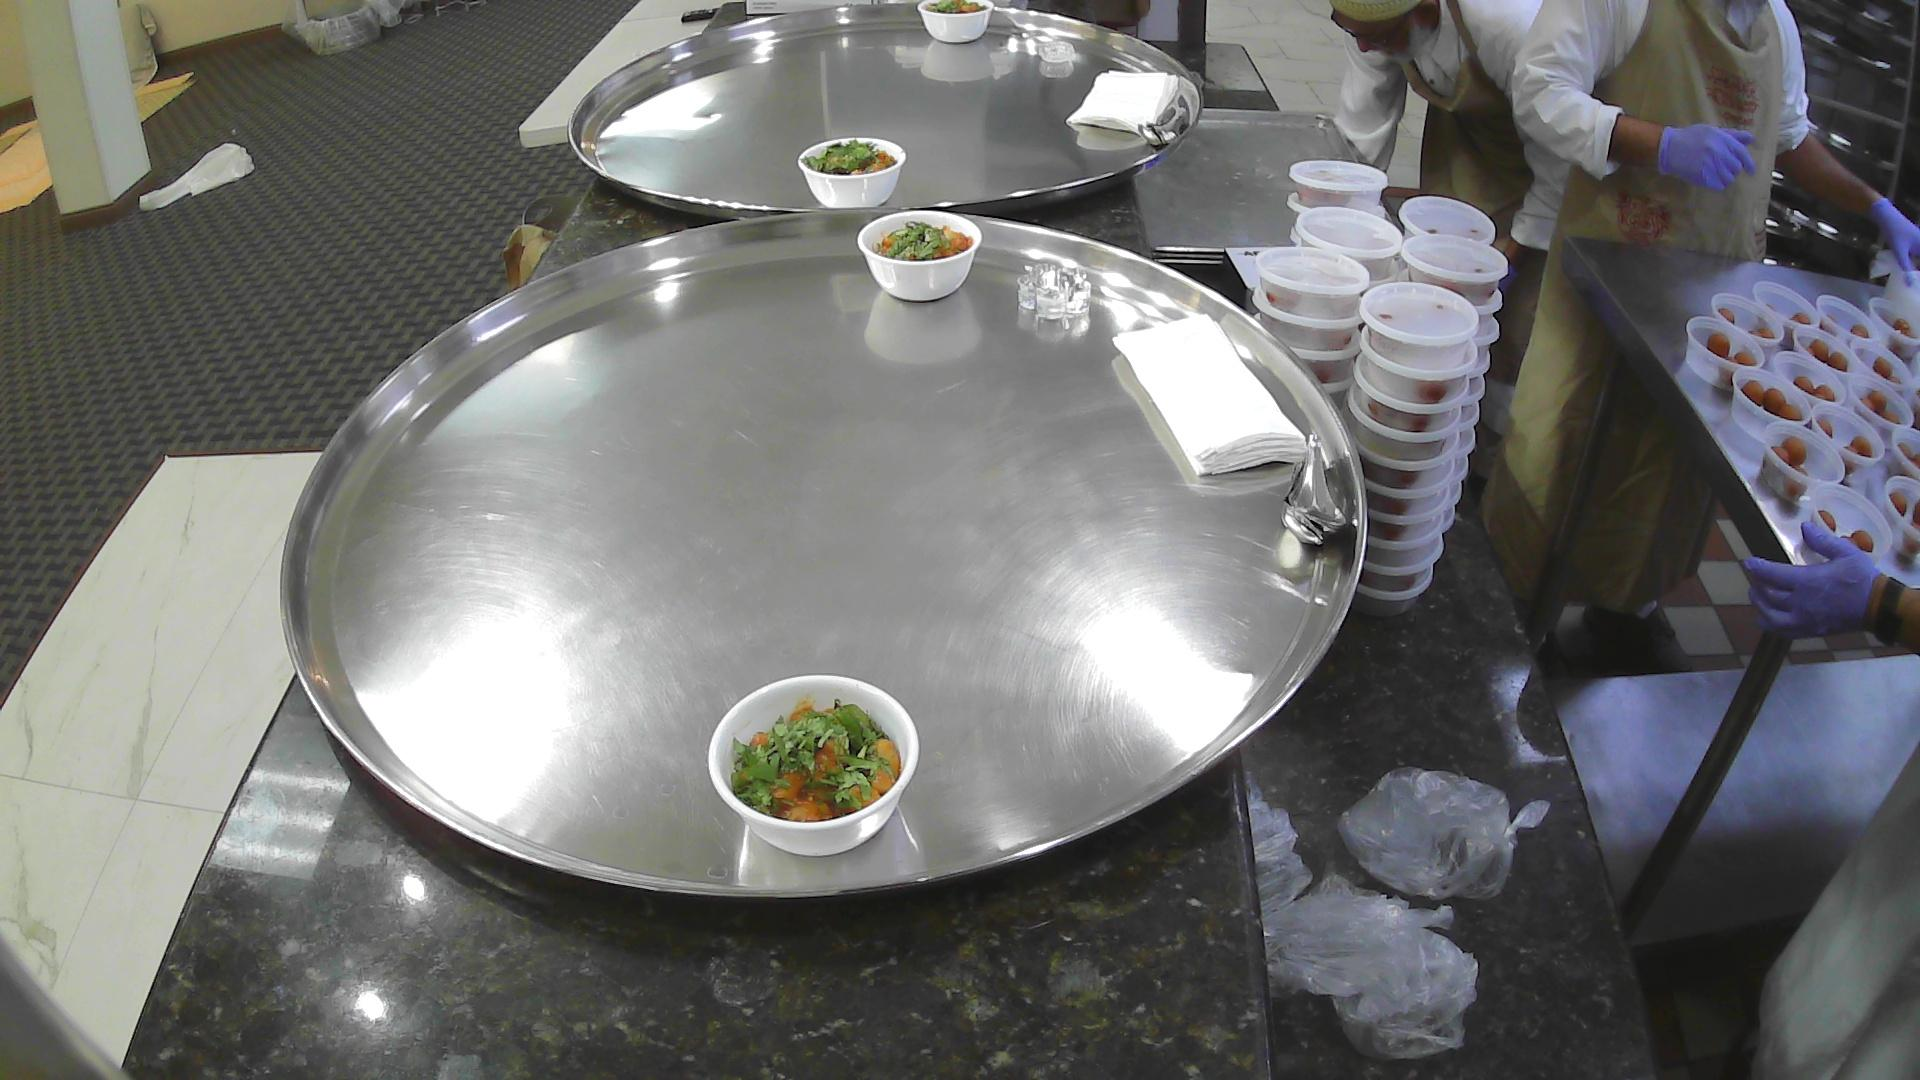thaal: (276, 210, 1373, 924), (564, 0, 1211, 215)
